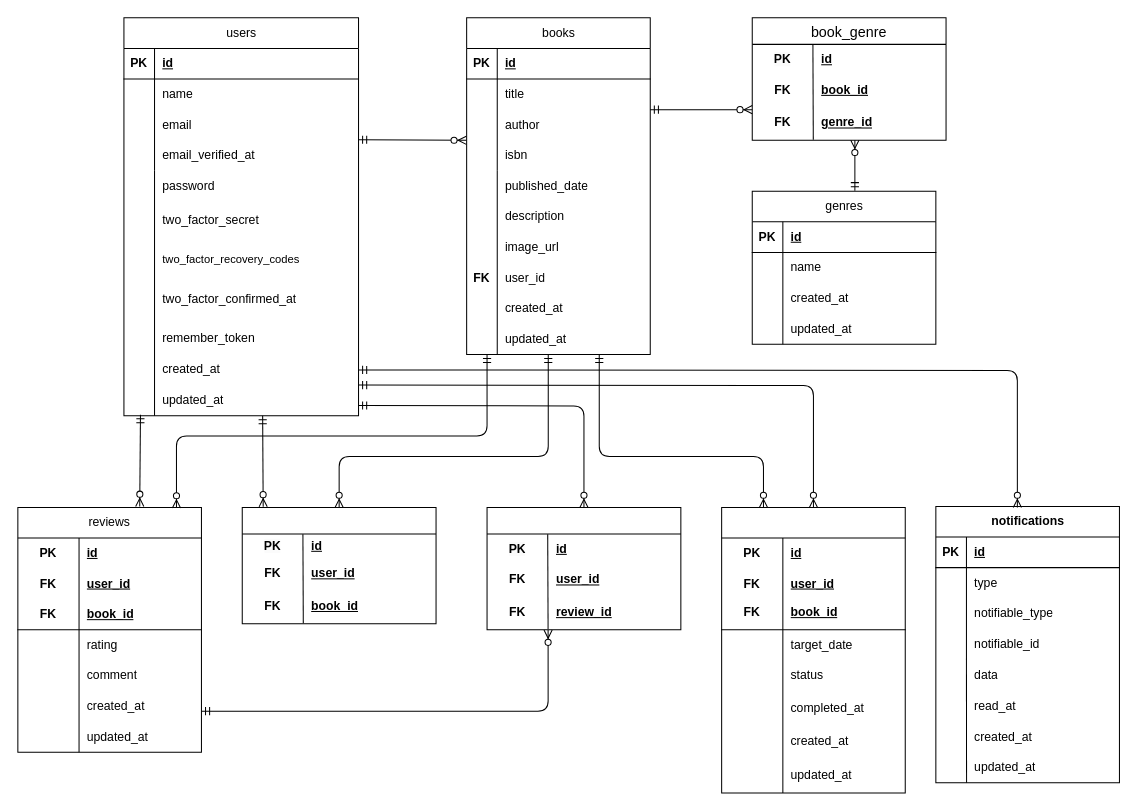
This 1137x812 diagram has some shape labels left out. Here are the shapes that lost their labels. From the top down, the box of each, then its label:
(241, 506, 436, 624): favorites
(486, 506, 681, 630): review_likes
(721, 506, 905, 793): reading_plans
